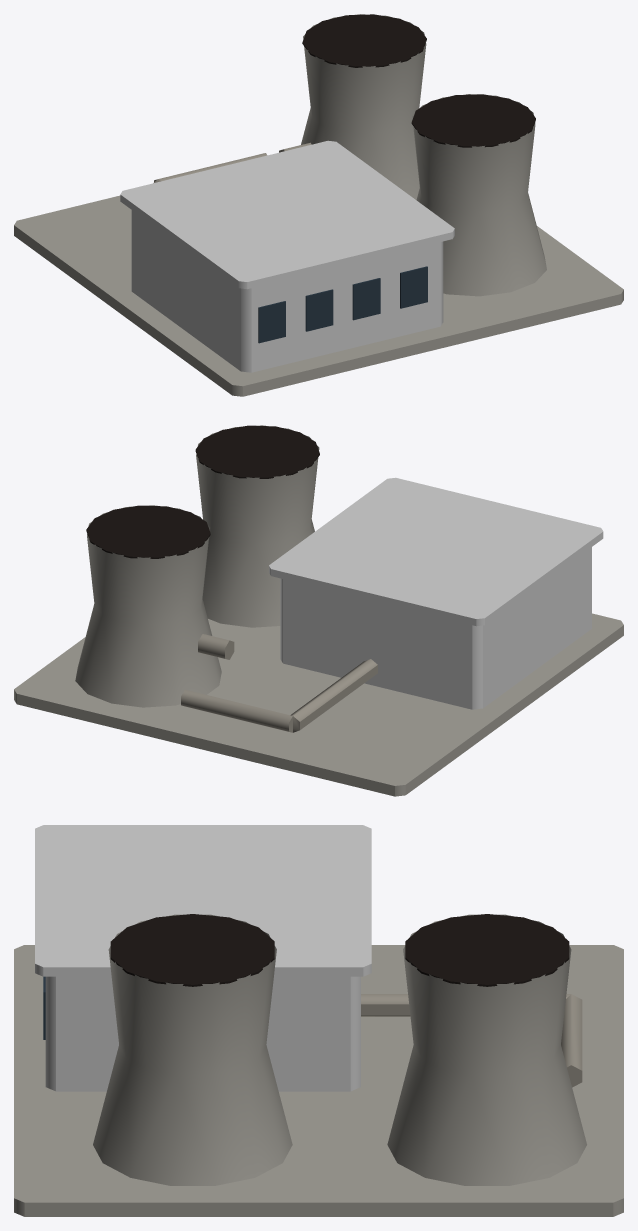
Rendered from geothermal.obj.
3 renders of one model, top to bottom at view 1: azimuth 30°, elevation 25°; view 2: azimuth 150°, elevation 25°; view 3: azimuth 270°, elevation 25°, orthographic. The views are drawn at different scales.
Visible parts, largest first — view 1: housing_roof, foundation, plant_housing, tower_south_open, tower_north_open, tower_north_pit, tower_south_pit, source_part_223, source_part_218, source_part_228, source_part_213; view 2: foundation, housing_roof, plant_housing, tower_north_open, tower_south_open, tower_north_pit, tower_south_pit, bent_feed_pipe, north_pipe; view 3: foundation, housing_roof, tower_north_open, tower_south_open, plant_housing, tower_north_pit, tower_south_pit, bent_feed_pipe.
Part boxes in pixels (x1,y1,x2,y2): housing_roof: (120, 140, 454, 289); foundation: (14, 195, 623, 396); plant_housing: (131, 210, 443, 372); tower_south_open: (412, 94, 546, 296); tower_north_open: (301, 14, 426, 199); tower_north_pit: (302, 14, 426, 67); tower_south_pit: (411, 94, 535, 147); source_part_223: (352, 278, 380, 320); source_part_218: (305, 289, 333, 331); source_part_228: (400, 266, 427, 308); source_part_213: (258, 301, 285, 343); foundation: (14, 613, 623, 796); housing_roof: (269, 477, 603, 626); plant_housing: (280, 547, 591, 709); tower_north_open: (75, 505, 221, 707); tower_south_open: (196, 425, 319, 627); tower_north_pit: (86, 505, 210, 558); tower_south_pit: (195, 425, 319, 478); bent_feed_pipe: (181, 659, 377, 732); north_pipe: (198, 634, 234, 659); foundation: (14, 945, 623, 1216); housing_roof: (35, 825, 371, 976); tower_north_open: (387, 914, 586, 1185); tower_south_open: (93, 914, 292, 1185); plant_housing: (45, 976, 360, 1091); tower_north_pit: (405, 914, 569, 986); tower_south_pit: (110, 914, 274, 986); bent_feed_pipe: (361, 994, 582, 1087).
Bounding box in the file's own units: 5.8 × 2.2 × 5.8.
